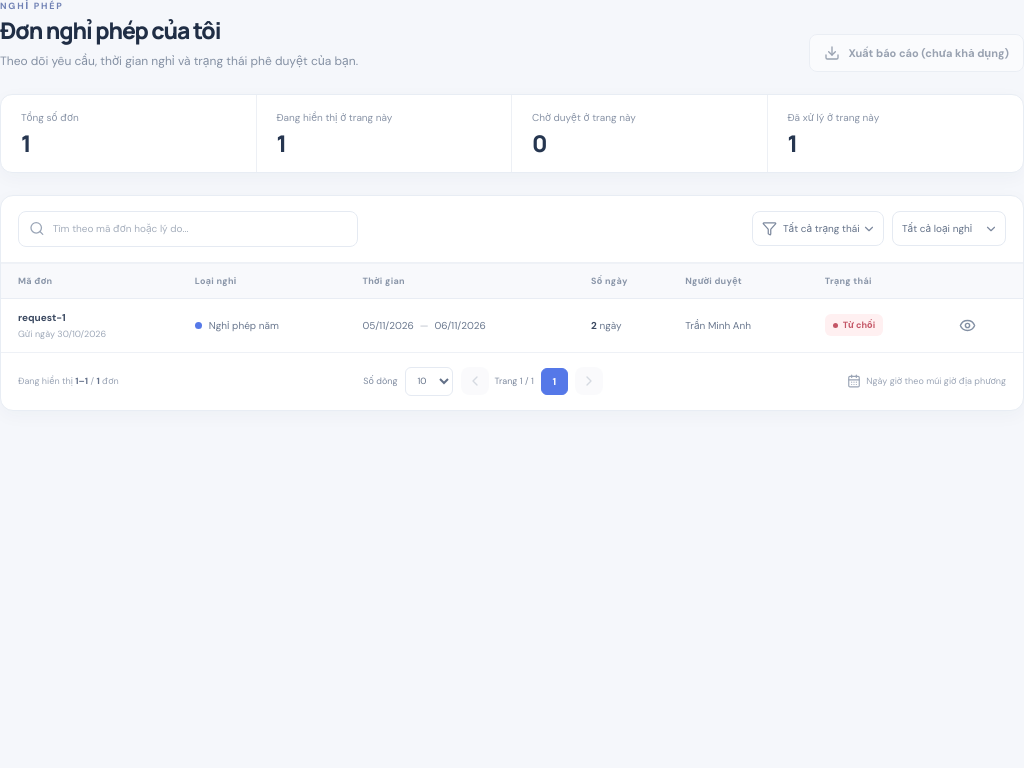
Scenario: LeaveRequestsPage › opens request details in an accessible dialog and closes with Escape
The width and height of the screenshot is (1024, 768).
Click the button named "Xem chi tiết request-1": (967, 325) [953,311,982,340]
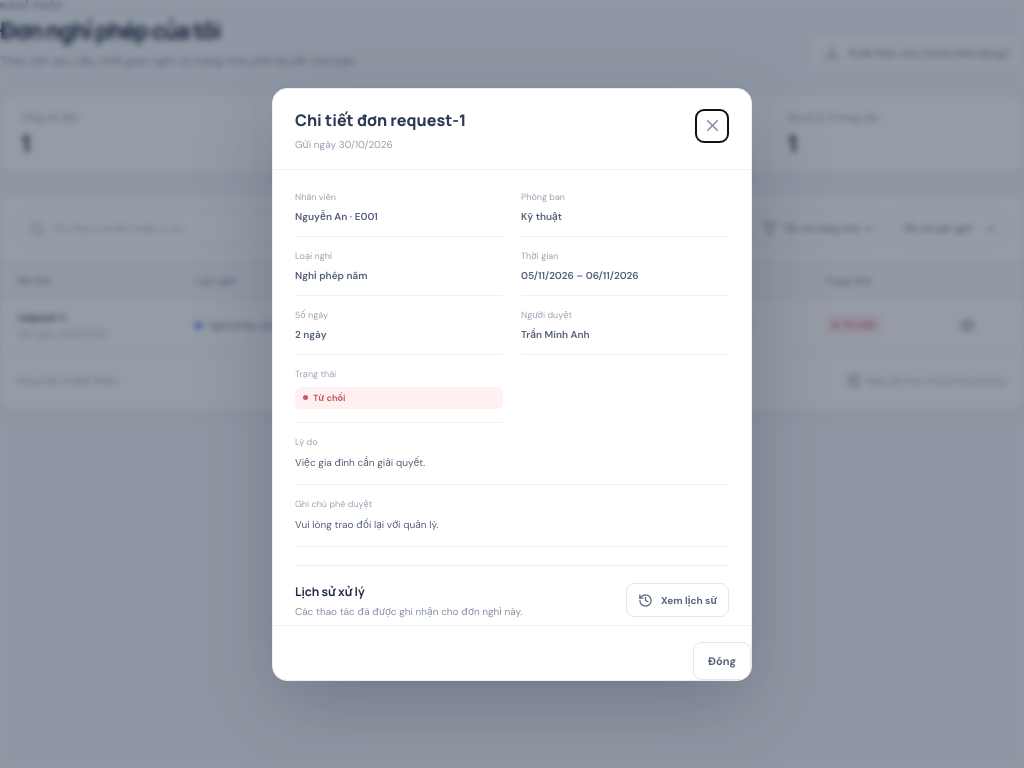
Expected: the dialog "Chi tiết đơn request-1" shows "Việc gia đình cần giải quyết.", [295,456,425,468]
Expected: the dialog "Chi tiết đơn request-1" shows "Vui lòng trao đổi lại với quản lý.", [295,518,438,530]
Press Shift+Tab
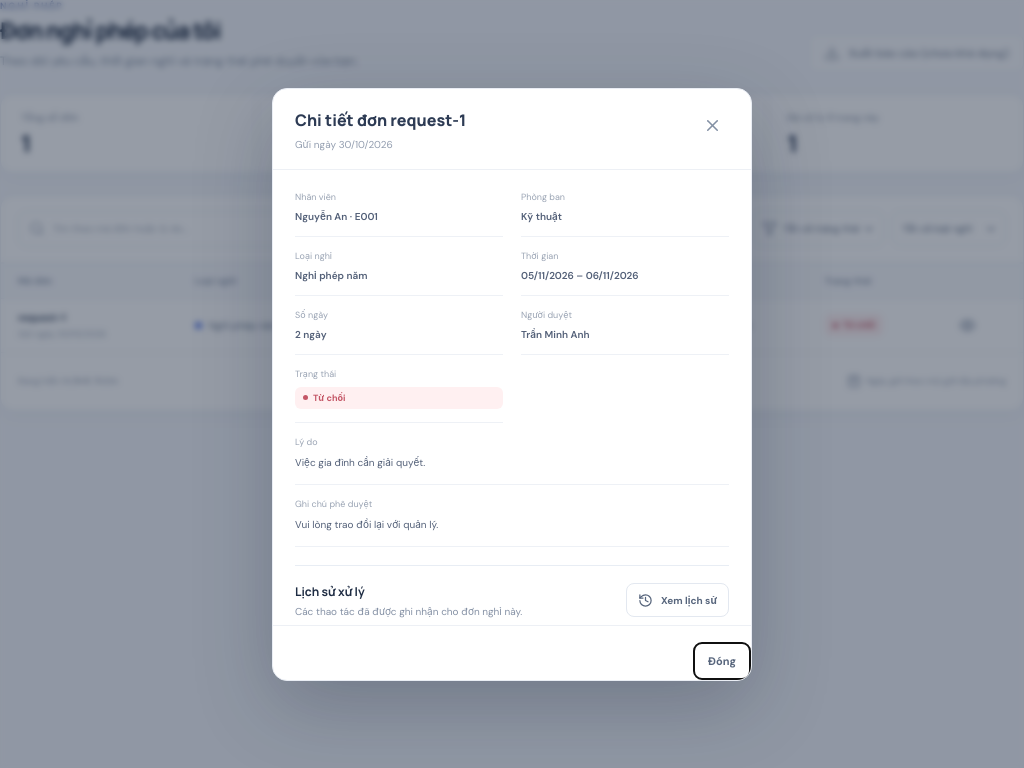
Press Tab
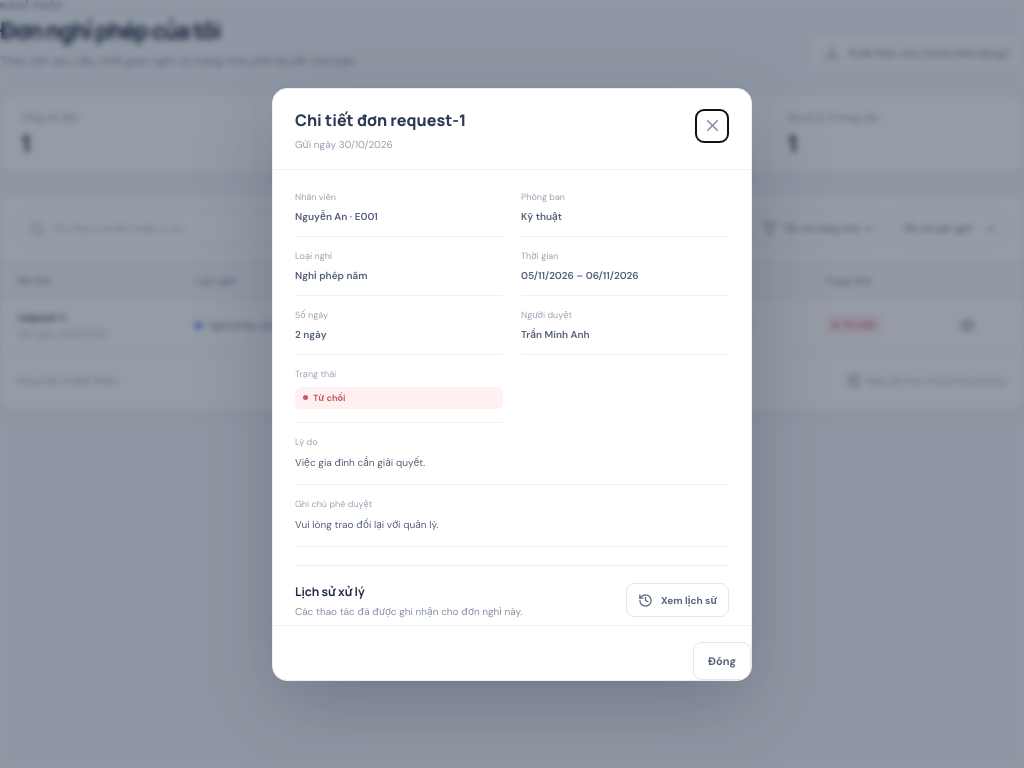
Press Escape
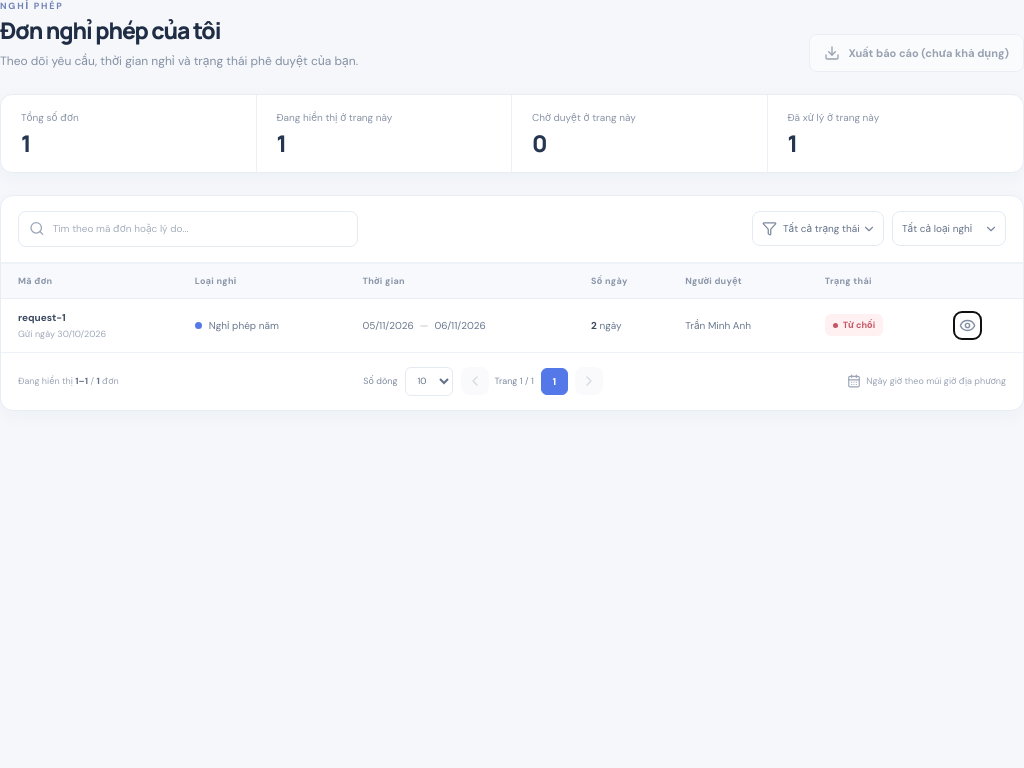
Expected: the dialog is gone
